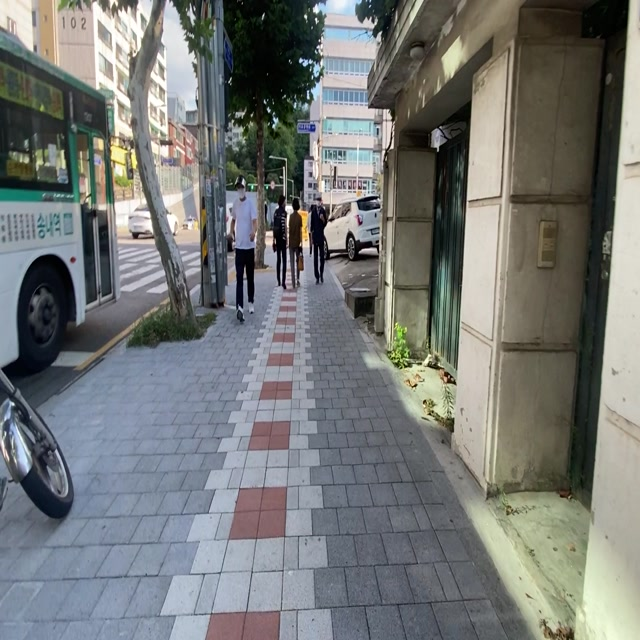Obstruction: (346, 283, 376, 316)
Pedestrian: (229, 179, 256, 320), (309, 195, 327, 282)
Vehicle: (0, 27, 119, 372), (1, 371, 73, 518), (324, 195, 380, 259), (129, 204, 152, 238), (128, 205, 152, 237)
